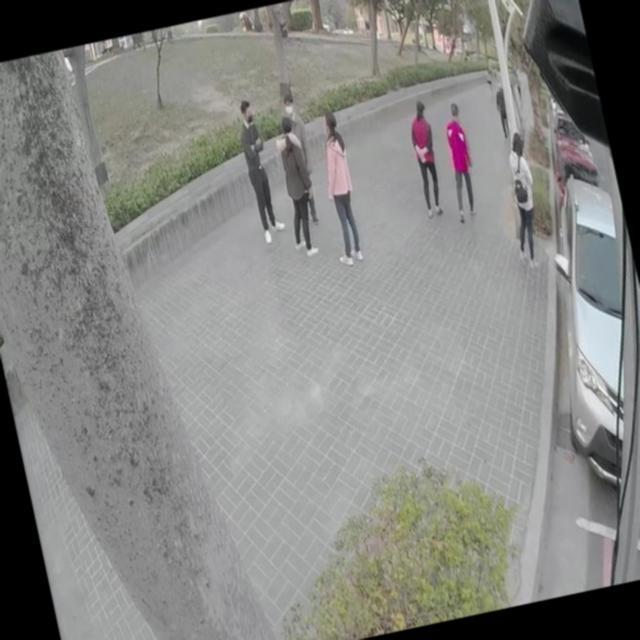person: (309, 106, 367, 262), (230, 94, 286, 243), (276, 85, 328, 232), (496, 133, 550, 270), (270, 113, 321, 254), (436, 100, 482, 222), (402, 97, 448, 216)
